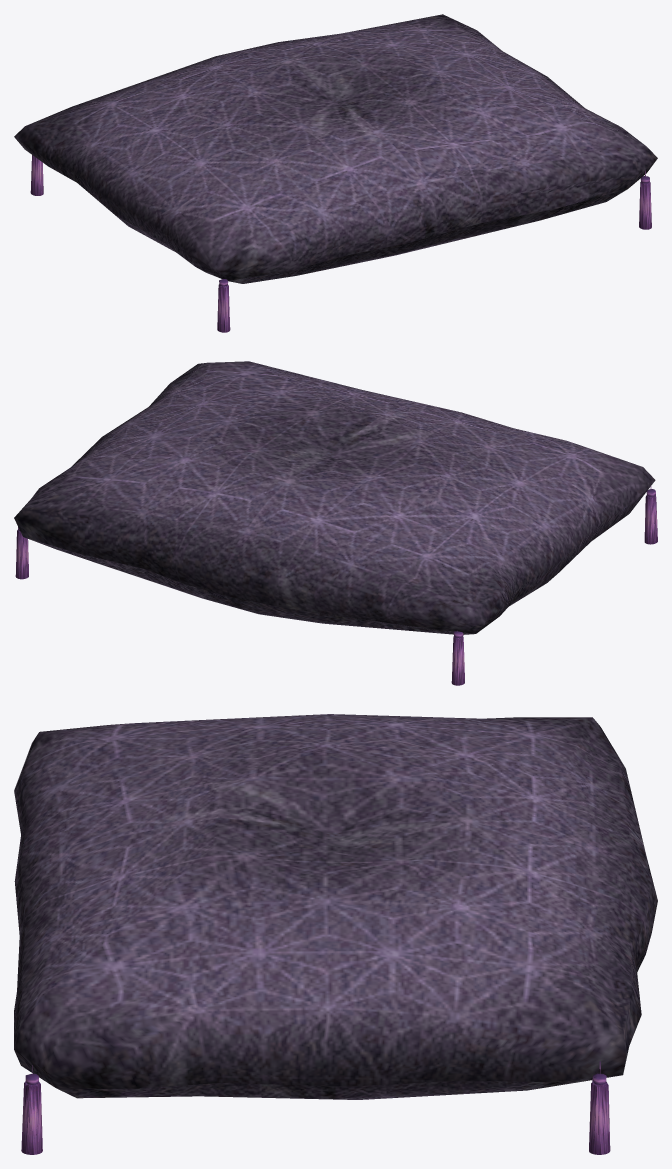
File: CushionSet1.c.fbx
3 views of the same model, one above another, from view 1: azimuth 30°, elevation 25°; view 2: azimuth 150°, elevation 25°; view 3: azimuth 270°, elevation 25° (orthographic). The views are drawn at different scales.
Parts seen in each view (by area): view 1: Group 0; view 2: Group 0; view 3: Group 0.
Boxes of the visible parts, x1,y1,x2,y2 form: Group 0: (14,14,657,332); Group 0: (14,361,657,685); Group 0: (14,714,657,1154).
Size of the model in its own units: 79.56 by 18.63 by 63.08.
1 material, 1 textured.
